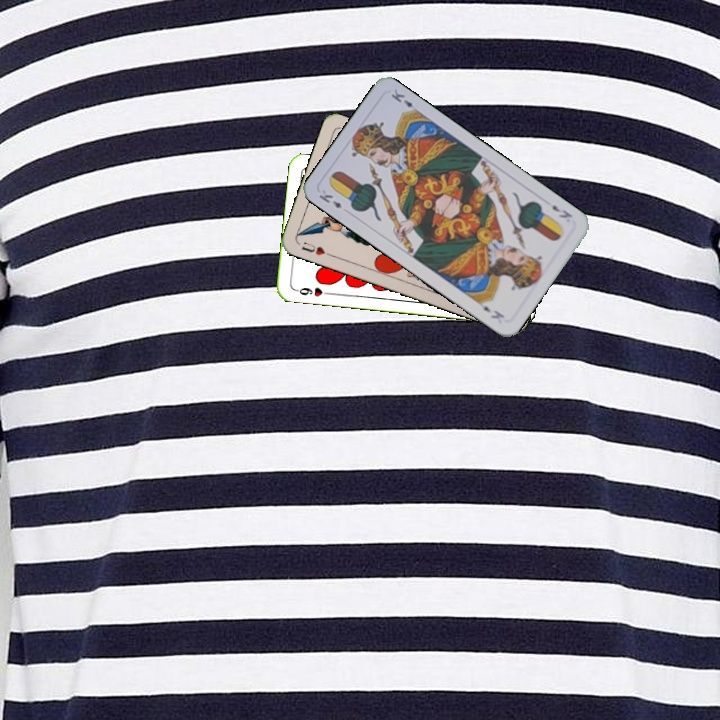EK: (315, 185, 345, 211), (548, 201, 575, 221)
H9: (291, 283, 331, 299)
HU: (298, 238, 334, 259)
